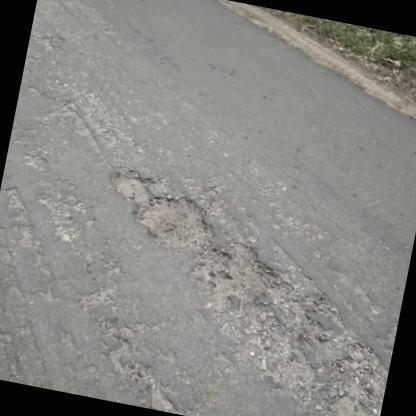pothole: (245, 291, 381, 415), (110, 164, 210, 250), (191, 240, 290, 312), (108, 334, 181, 416), (4, 186, 35, 245)
